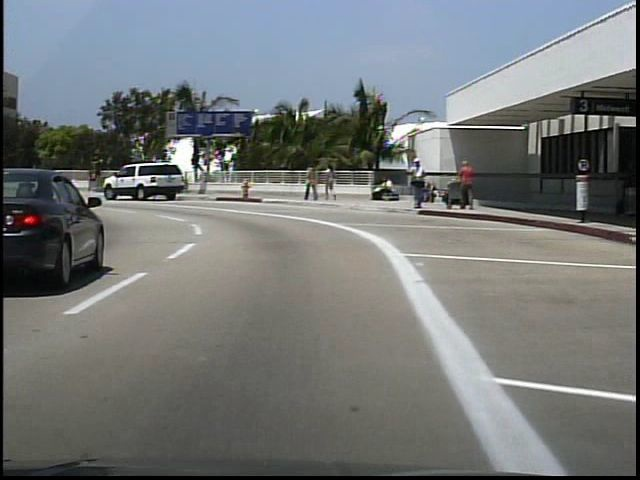person: (403, 156, 425, 216), (458, 157, 477, 212), (323, 161, 339, 206), (370, 175, 393, 205), (305, 162, 319, 204)
